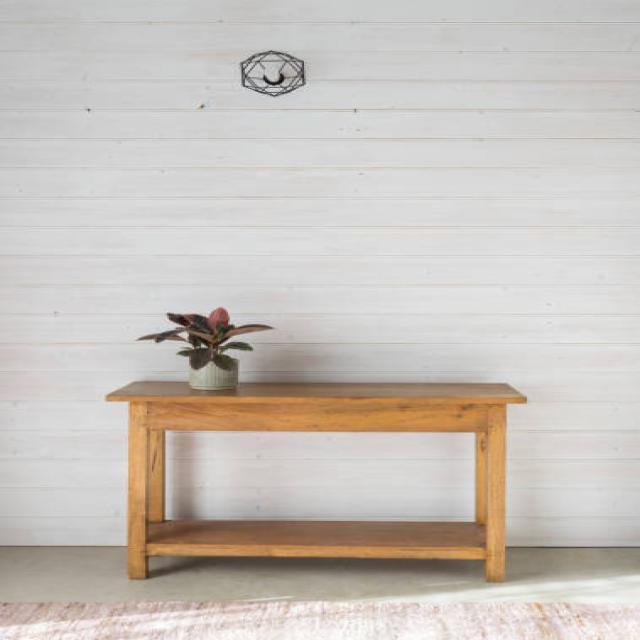table: (103, 380, 527, 582)
